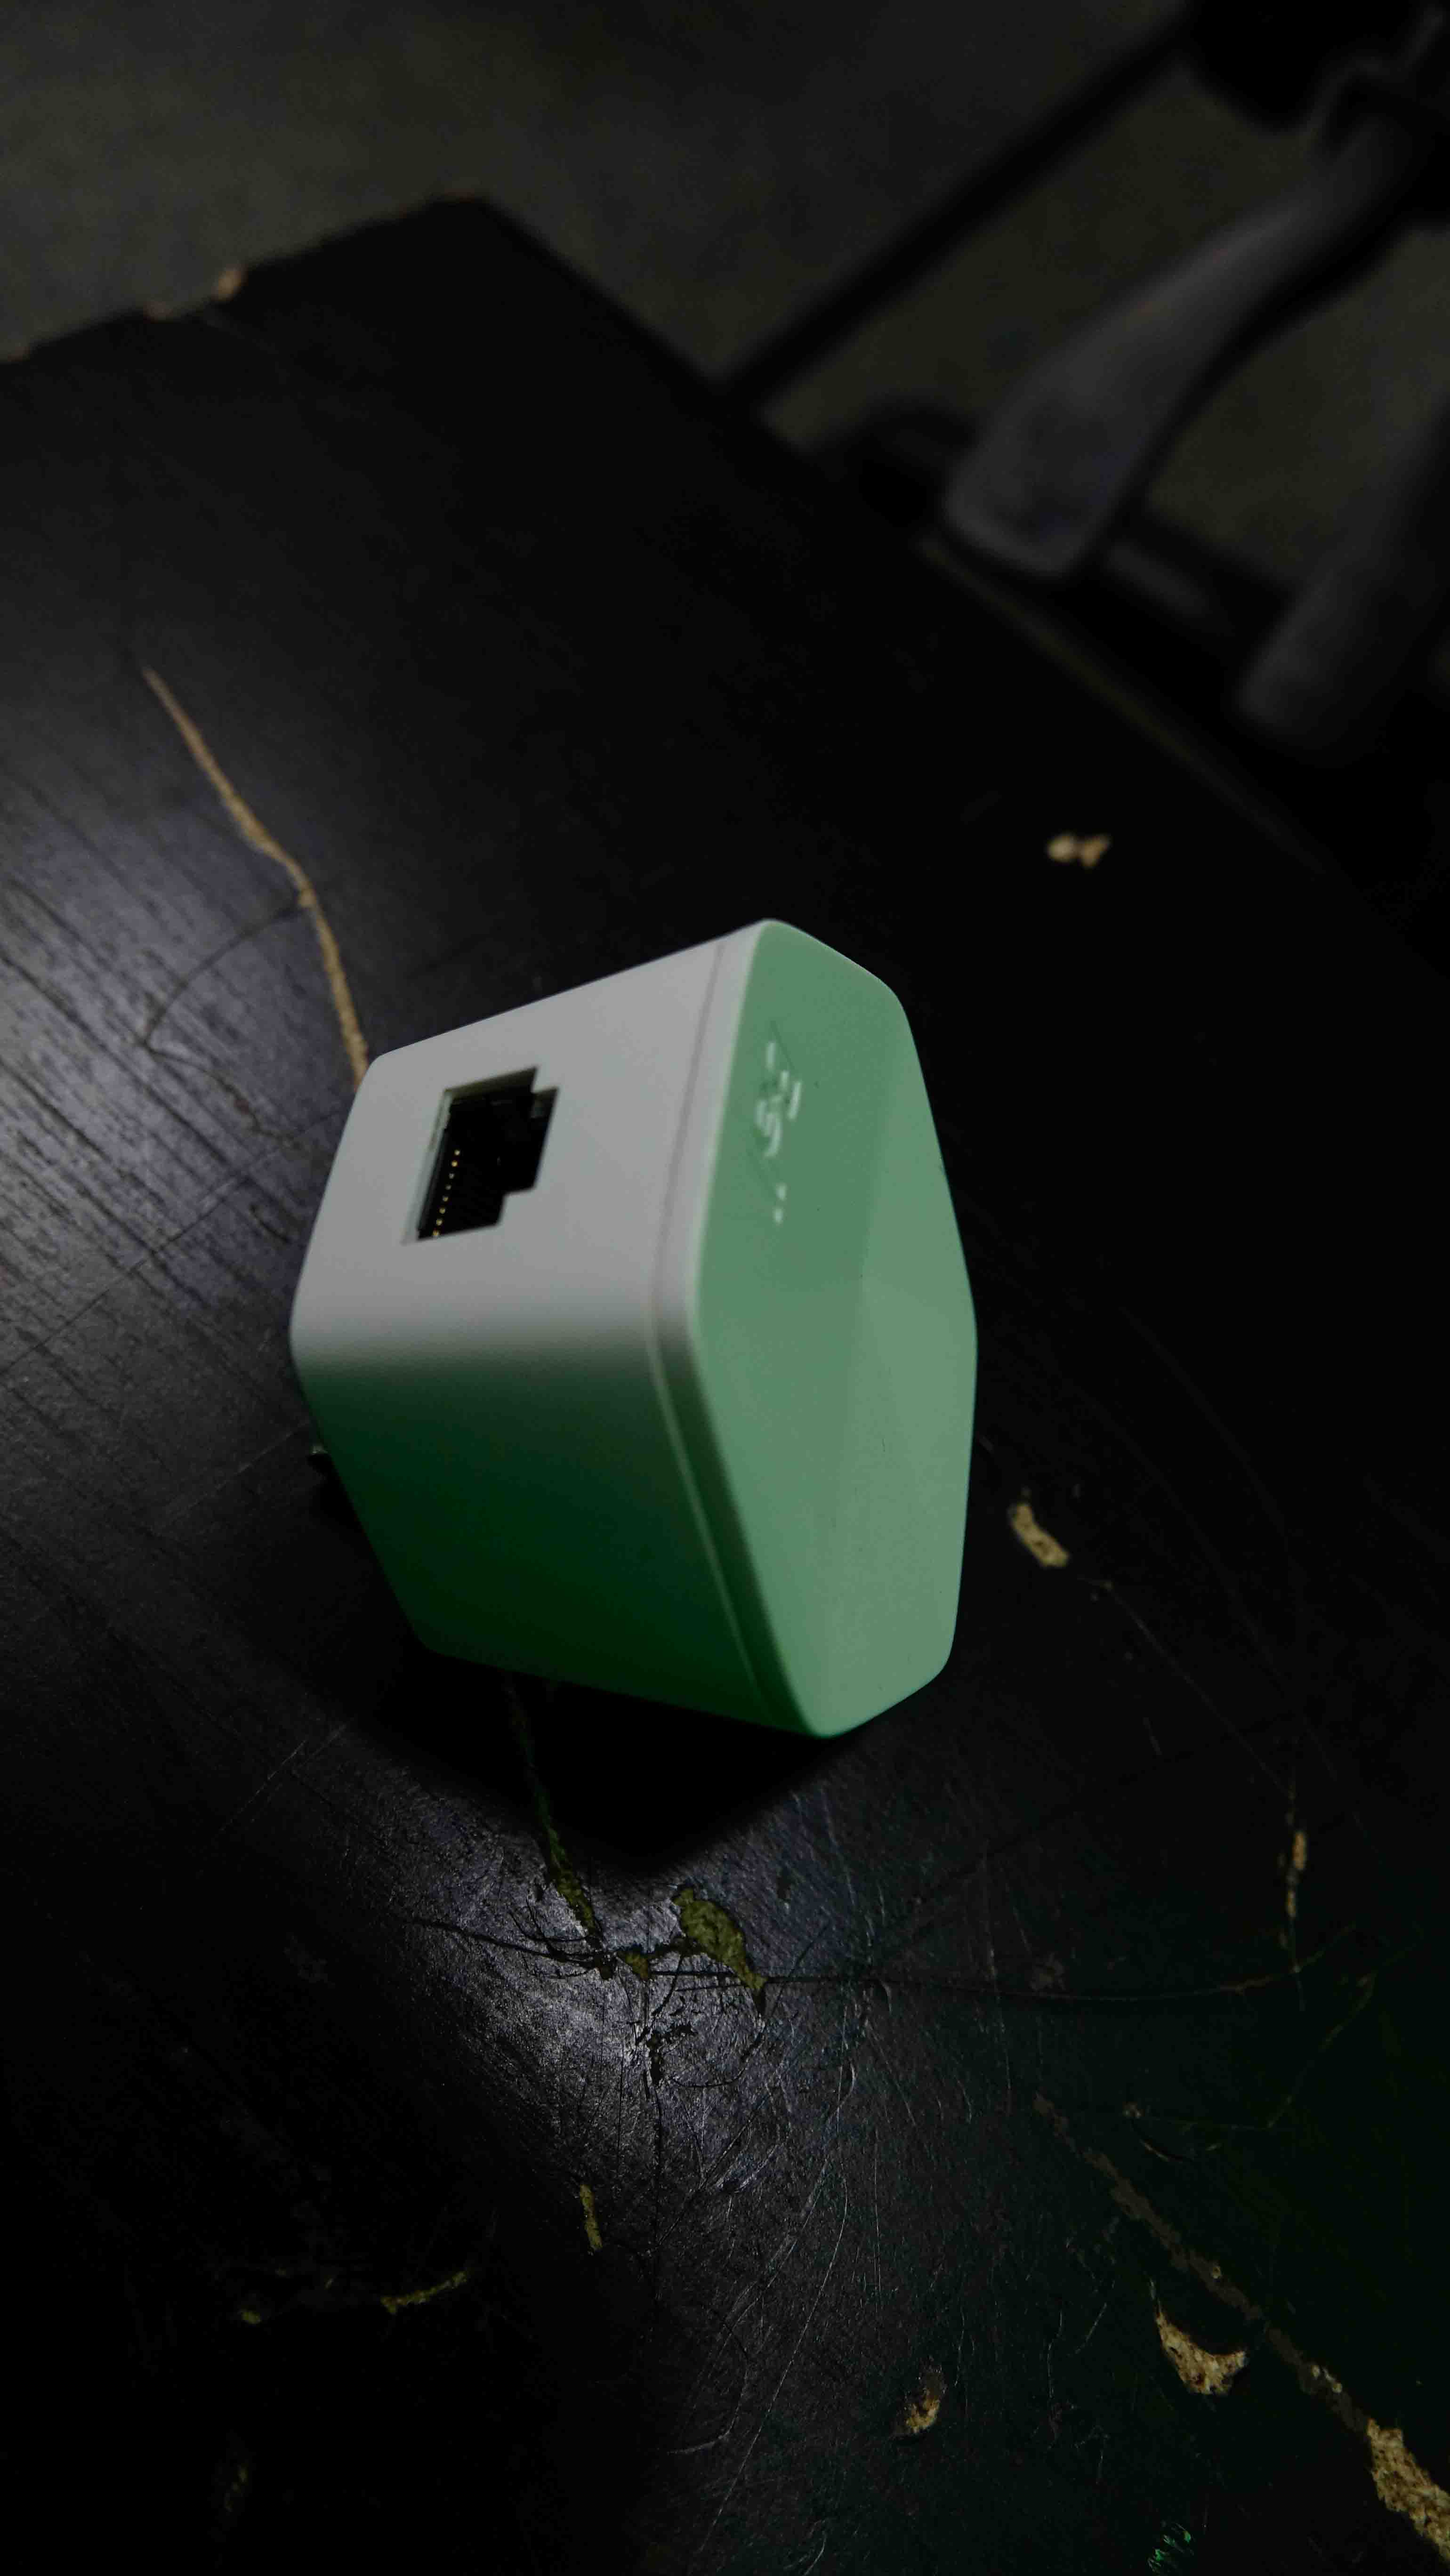pod: (269, 902, 1011, 1769)
